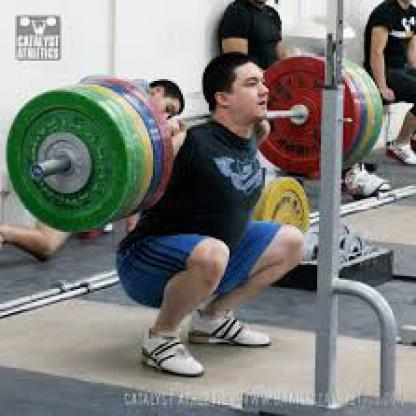barbell: (7, 53, 382, 232)
